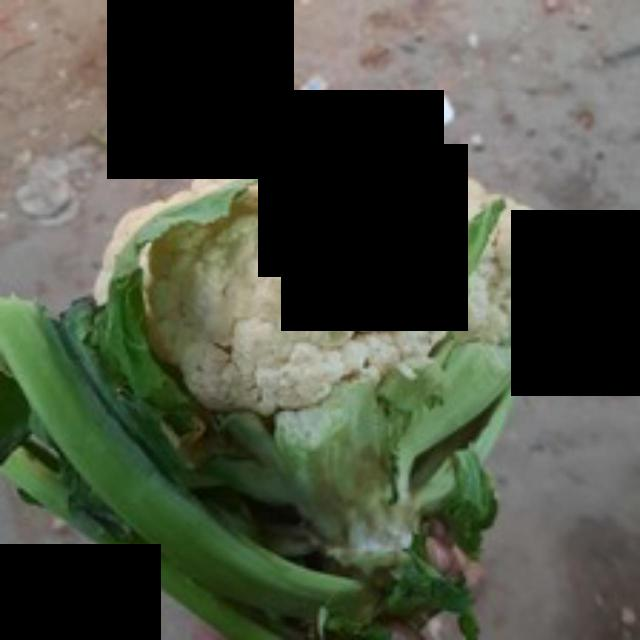cauliflower: (80, 101, 560, 522)
